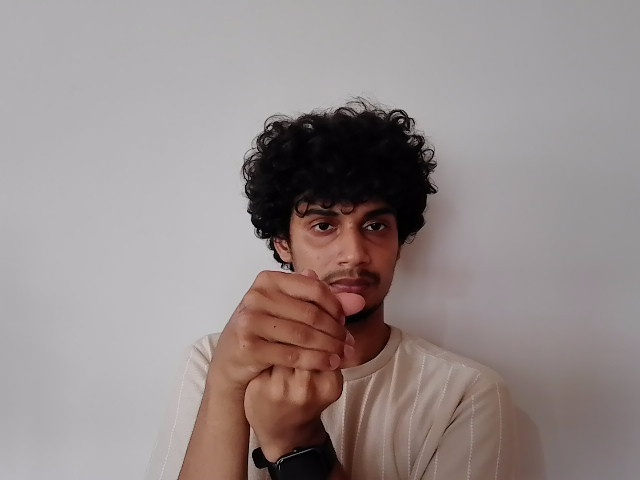with: (211, 268, 371, 430)
